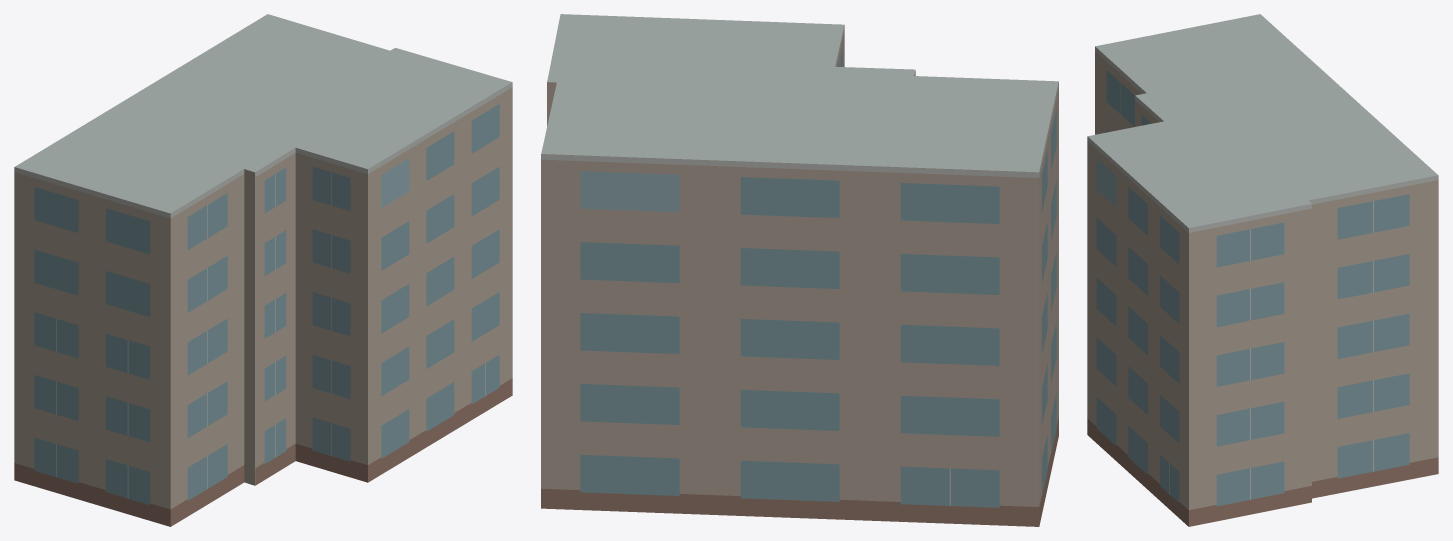
The model's file is survey-upis-32797125.glb.
3 views of the same model, side by side, from view 1: azimuth 30°, elevation 25°; view 2: azimuth 150°, elevation 25°; view 3: azimuth 270°, elevation 25° (orthographic). The views are drawn at different scales.
Visible parts, largest first — view 1: survey-upis-32797125.tmp; view 2: survey-upis-32797125.tmp; view 3: survey-upis-32797125.tmp.
Part boxes in pixels (box(x1,y1,x2,y2)): survey-upis-32797125.tmp: box(14, 14, 512, 526); survey-upis-32797125.tmp: box(541, 14, 1058, 526); survey-upis-32797125.tmp: box(1087, 14, 1438, 526).
Size of the model in its own units: 23.47 by 15.25 by 16.25.
